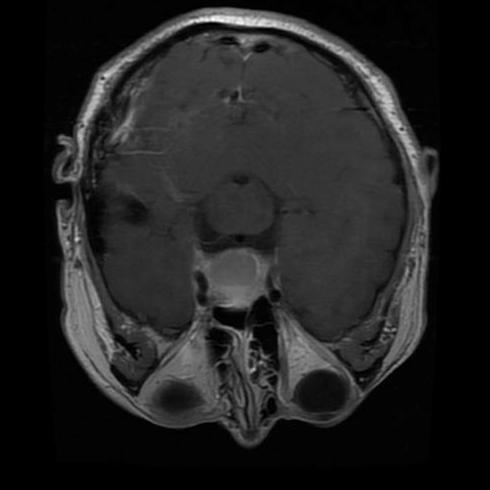Tumour-Pituitary: (190, 245, 281, 310)
